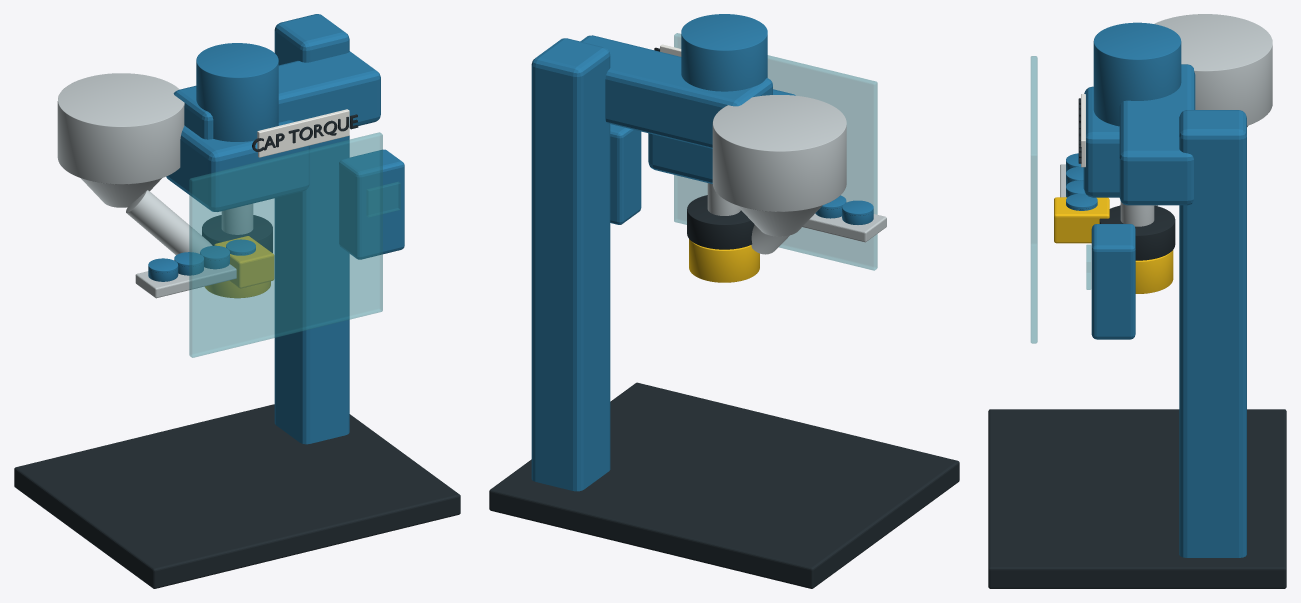
The model's file is tote_capping_station.glb.
3 renders of one model, left to right at view 1: azimuth 30°, elevation 25°; view 2: azimuth 150°, elevation 25°; view 3: azimuth 270°, elevation 25°, orthographic. The views are drawn at different scales.
Parts seen in each view (by area): view 1: CAPPER_BASE, GUARD_FRONT, CAPPER_COLUMN, CAP_HOPPER, CAPPER_HEAD, CAPPER_CANTILEVER, DRIVE_MOTOR, CAPPER_CONTROL_PANEL, CAP_CHUTE, CAPPER_NAMEPLATE, CAP_FEED_RAIL, CAP_ESCAPEMENT (+9 smaller); view 2: CAPPER_BASE, CAPPER_COLUMN, CAP_HOPPER, GUARD_FRONT, CAPPER_CANTILEVER, DRIVE_MOTOR, CAPPER_CONTROL_PANEL, TORQUE_CHUCK_BODY, CAPPER_HEAD, TORQUE_CHUCK, CAP_HOPPER_FUNNEL, CAP_FEED_RAIL (+3 smaller); view 3: CAPPER_BASE, CAPPER_COLUMN, CAP_HOPPER, CAPPER_CANTILEVER, DRIVE_MOTOR, CAPPER_CONTROL_PANEL, CAPPER_HEAD, GUARD_FRONT, TORQUE_CHUCK_BODY, CAP_ESCAPEMENT, TORQUE_CHUCK, KIN_capper_spindle (+1 smaller).
Part boxes in pixels (left/top/right/bottom): CAPPER_BASE: left=14, top=404, right=460, bottom=588; GUARD_FRONT: left=189, top=132, right=382, bottom=357; CAPPER_COLUMN: left=274, top=14, right=349, bottom=444; CAP_HOPPER: left=57, top=73, right=184, bottom=184; CAPPER_HEAD: left=166, top=120, right=309, bottom=211; CAPPER_CANTILEVER: left=173, top=51, right=380, bottom=139; DRIVE_MOTOR: left=196, top=43, right=278, bottom=141; CAPPER_CONTROL_PANEL: left=339, top=149, right=404, bottom=259; CAP_CHUTE: left=126, top=190, right=212, bottom=254; CAPPER_NAMEPLATE: left=257, top=109, right=349, bottom=157; CAP_FEED_RAIL: left=135, top=264, right=236, bottom=298; CAP_ESCAPEMENT: left=214, top=236, right=274, bottom=288; CAPPER_BASE: left=489, top=382, right=959, bottom=588; CAPPER_COLUMN: left=531, top=38, right=610, bottom=491; CAP_HOPPER: left=712, top=95, right=846, bottom=211; GUARD_FRONT: left=674, top=33, right=877, bottom=270; CAPPER_CANTILEVER: left=580, top=35, right=772, bottom=148; DRIVE_MOTOR: left=681, top=14, right=767, bottom=91; CAPPER_CONTROL_PANEL: left=610, top=124, right=641, bottom=224; TORQUE_CHUCK_BODY: left=687, top=195, right=754, bottom=249; CAPPER_HEAD: left=648, top=89, right=795, bottom=183; TORQUE_CHUCK: left=689, top=239, right=759, bottom=282; CAP_HOPPER_FUNNEL: left=737, top=205, right=822, bottom=236; CAP_FEED_RAIL: left=802, top=213, right=886, bottom=242; CAPPER_BASE: left=988, top=409, right=1286, bottom=588; CAPPER_COLUMN: left=1179, top=110, right=1246, bottom=557; CAP_HOPPER: left=1154, top=14, right=1272, bottom=125; CAPPER_CANTILEVER: left=1119, top=64, right=1195, bottom=205; DRIVE_MOTOR: left=1093, top=22, right=1181, bottom=126; CAPPER_CONTROL_PANEL: left=1091, top=224, right=1135, bottom=339; CAPPER_HEAD: left=1083, top=86, right=1119, bottom=197; GUARD_FRONT: left=1030, top=56, right=1037, bottom=343; TORQUE_CHUCK_BODY: left=1099, top=205, right=1175, bottom=260; CAP_ESCAPEMENT: left=1054, top=197, right=1109, bottom=243; TORQUE_CHUCK: left=1135, top=250, right=1173, bottom=293; KIN_capper_spindle: left=1120, top=201, right=1154, bottom=226.
Bounding box in the file's own units: 1.9 × 2.6 × 1.5.
